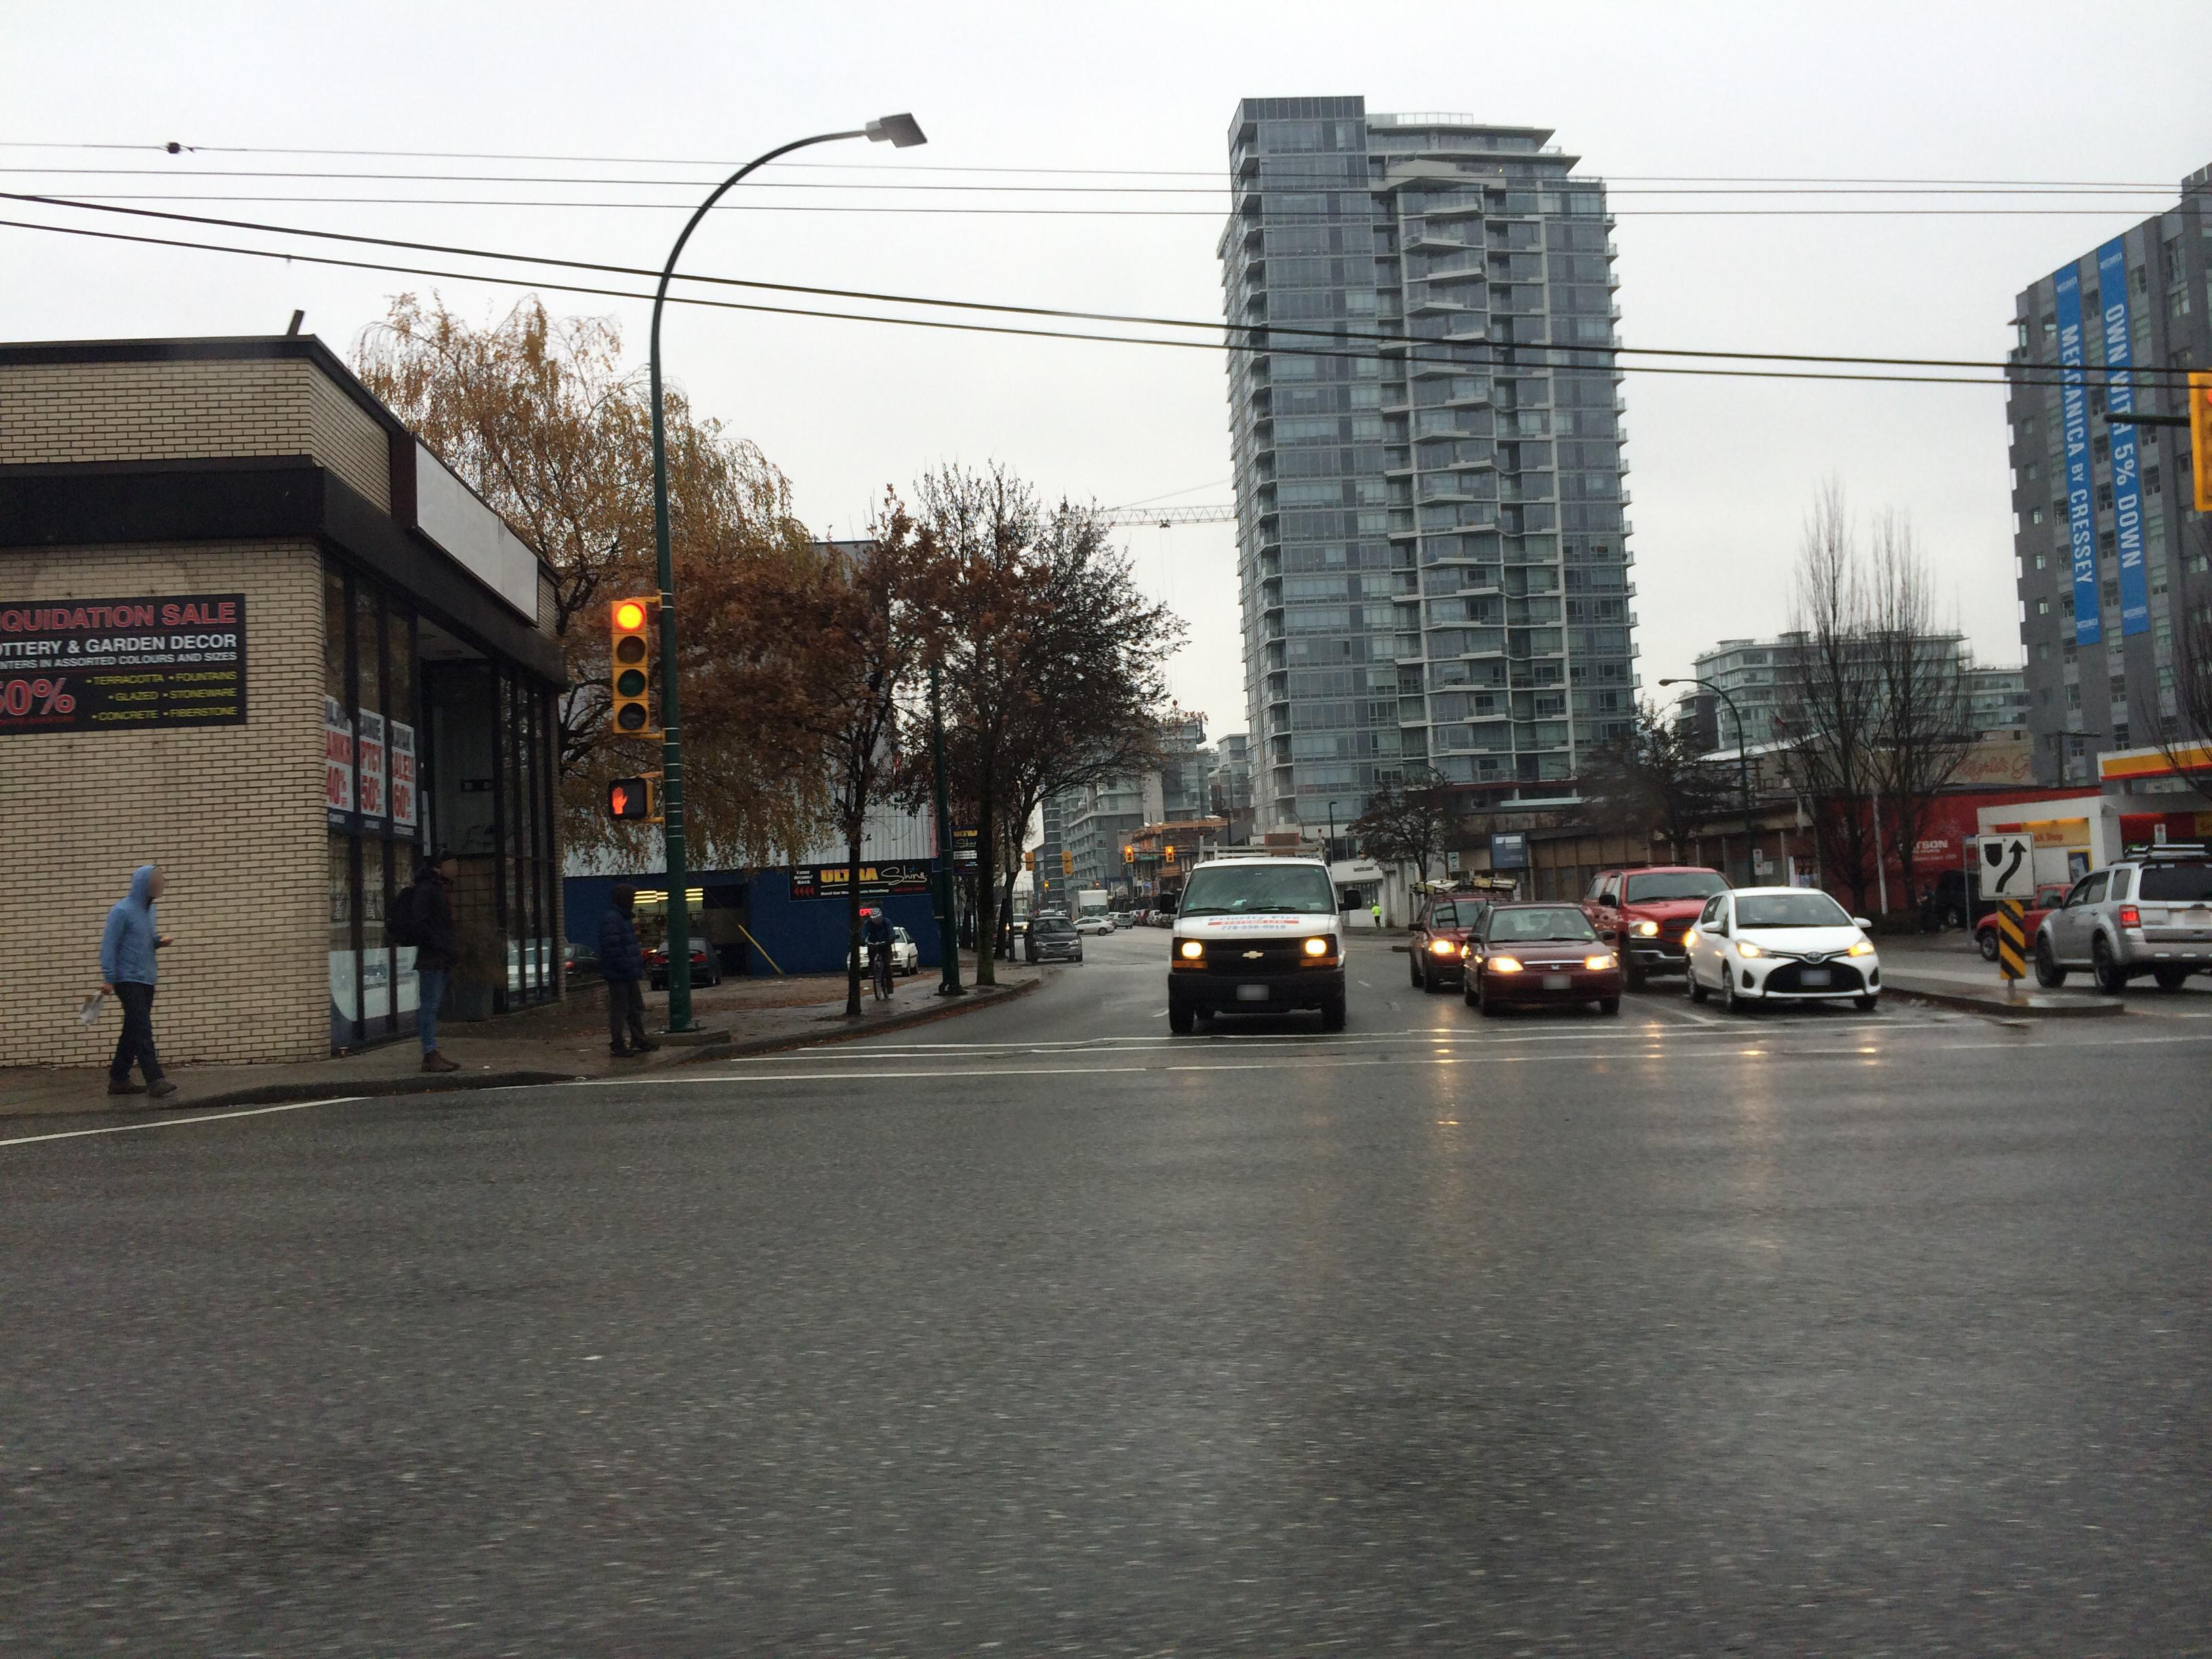vinyl banner: (0, 596, 256, 749), (2087, 227, 2163, 643), (2045, 246, 2095, 664)
